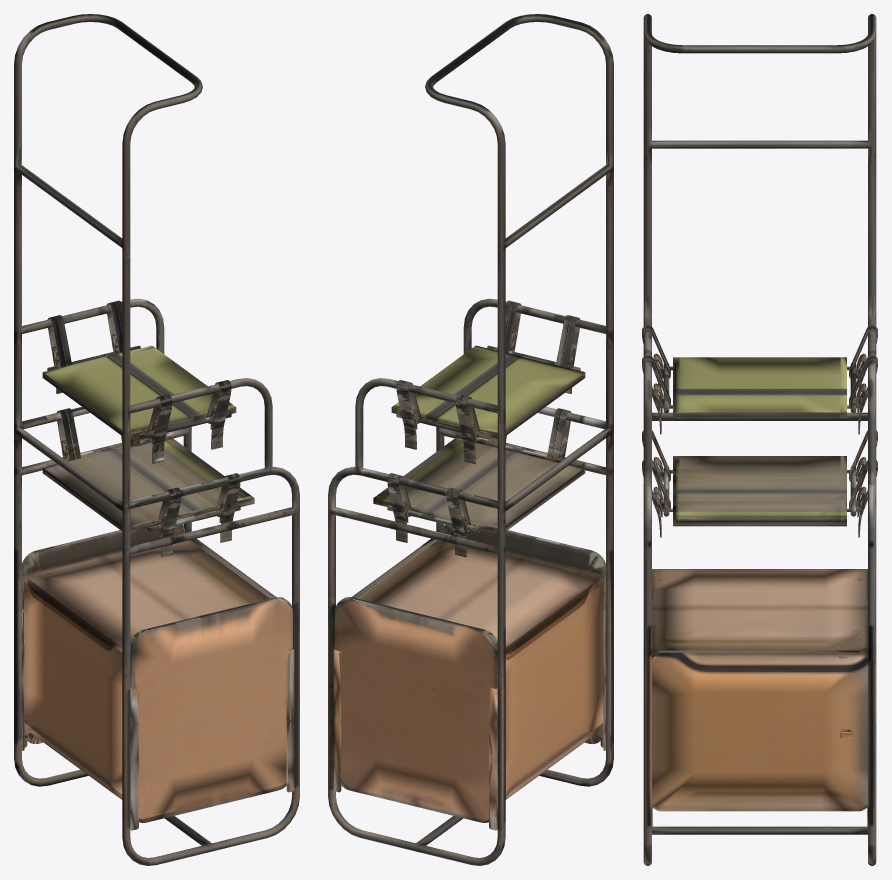
The model's file is mueble.glb.
The picture shows the model from 3 angles, left to right: view 1: azimuth 30°, elevation 25°; view 2: azimuth 150°, elevation 25°; view 3: azimuth 270°, elevation 25°; orthographic projection. The views are drawn at different scales.
Parts seen in each view (by area): view 1: Mesh_0.001; view 2: Mesh_0.001; view 3: Mesh_0.001.
Part boxes in pixels (<box>): Mesh_0.001: <box>14,14,299,865</box>; Mesh_0.001: <box>328,14,613,865</box>; Mesh_0.001: <box>642,14,877,865</box>.
Bounding box in the file's own units: 0.5 × 2 × 0.5423.
1 material, 1 textured.
